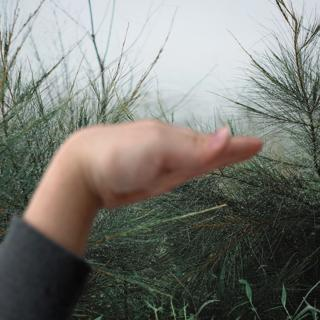Wait: (27, 108, 269, 213)
